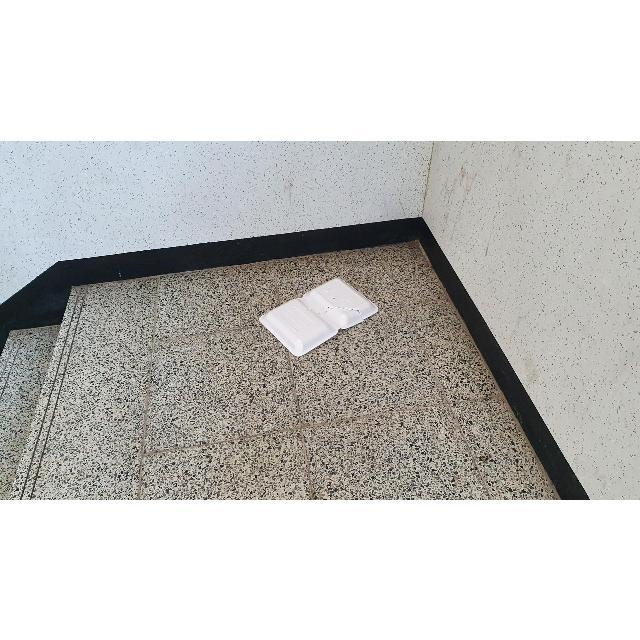Plastico descartable: (258, 279, 378, 359)
